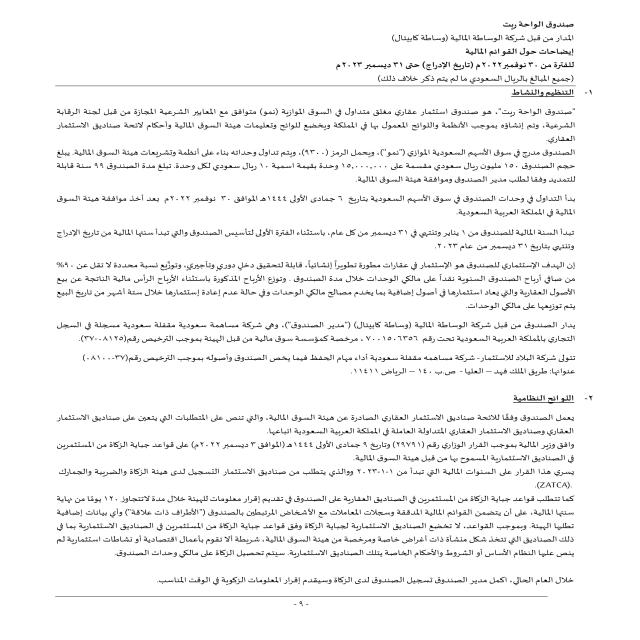notes: (452, 46, 591, 61)
text: (28, 85, 598, 590)
